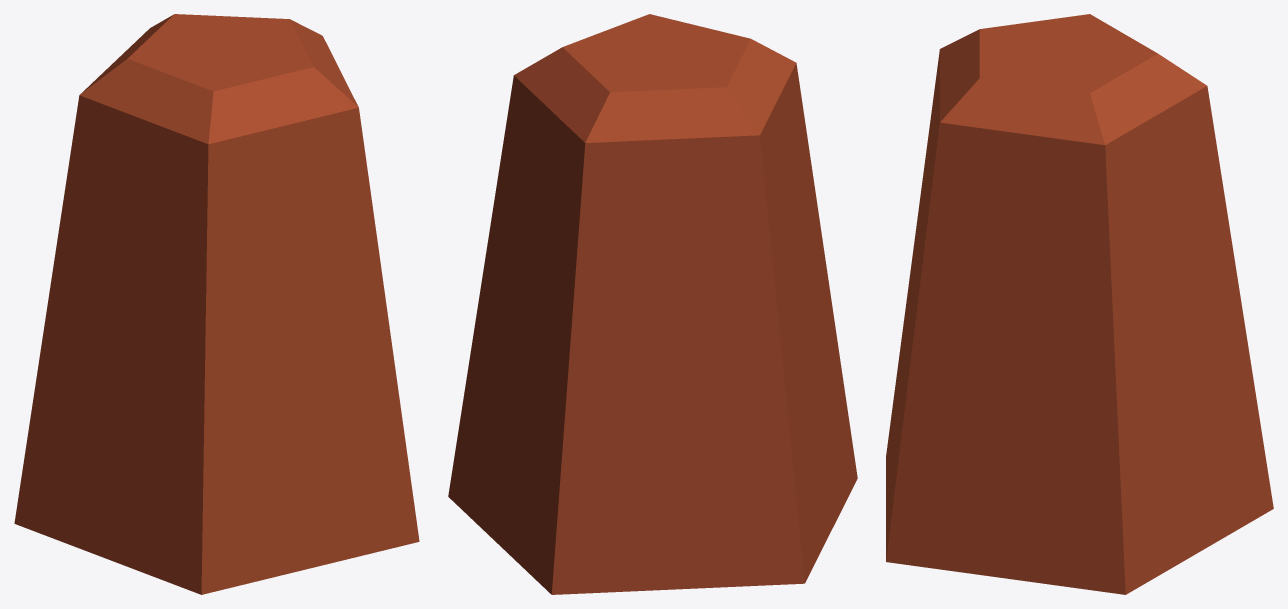
File: DesertRockA.glb
3 views of the same model, side by side, from view 1: azimuth 30°, elevation 25°; view 2: azimuth 150°, elevation 25°; view 3: azimuth 270°, elevation 25° (orthographic).
Parts seen in each view (by area): view 1: RockA; view 2: RockA; view 3: RockA.
Part boxes in pixels (x1,y1,x2,y2): RockA: (14,14,419,594); RockA: (448,14,857,594); RockA: (886,14,1273,594).
Size of the model in its own units: 3.57 by 4.4 by 3.4.
